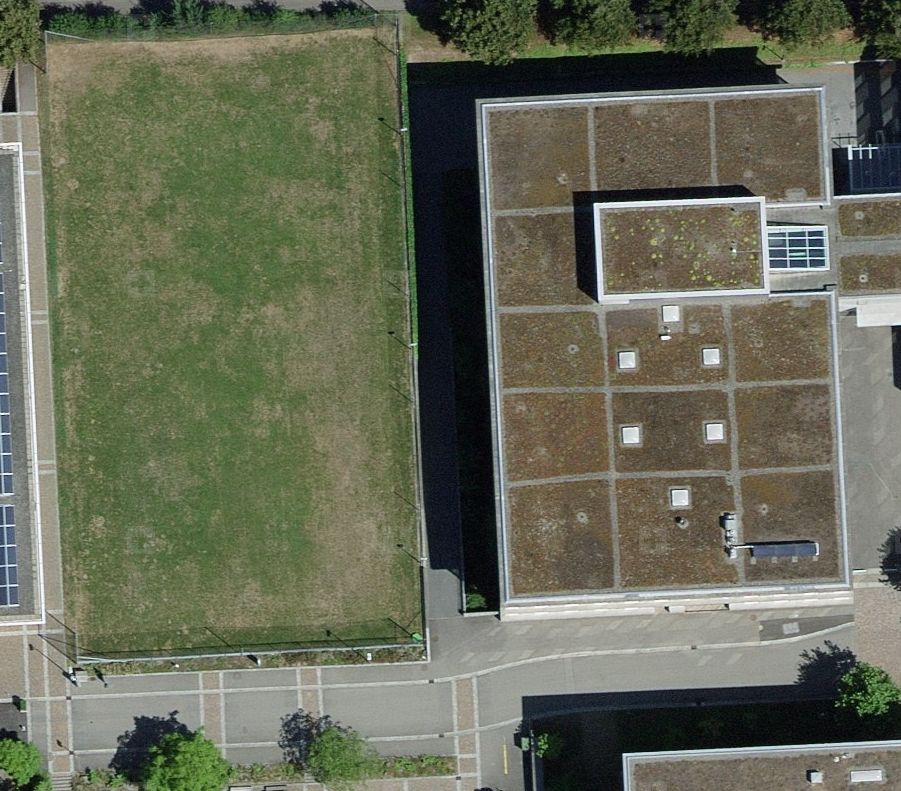solar: (1, 229, 20, 610), (739, 536, 826, 566)
